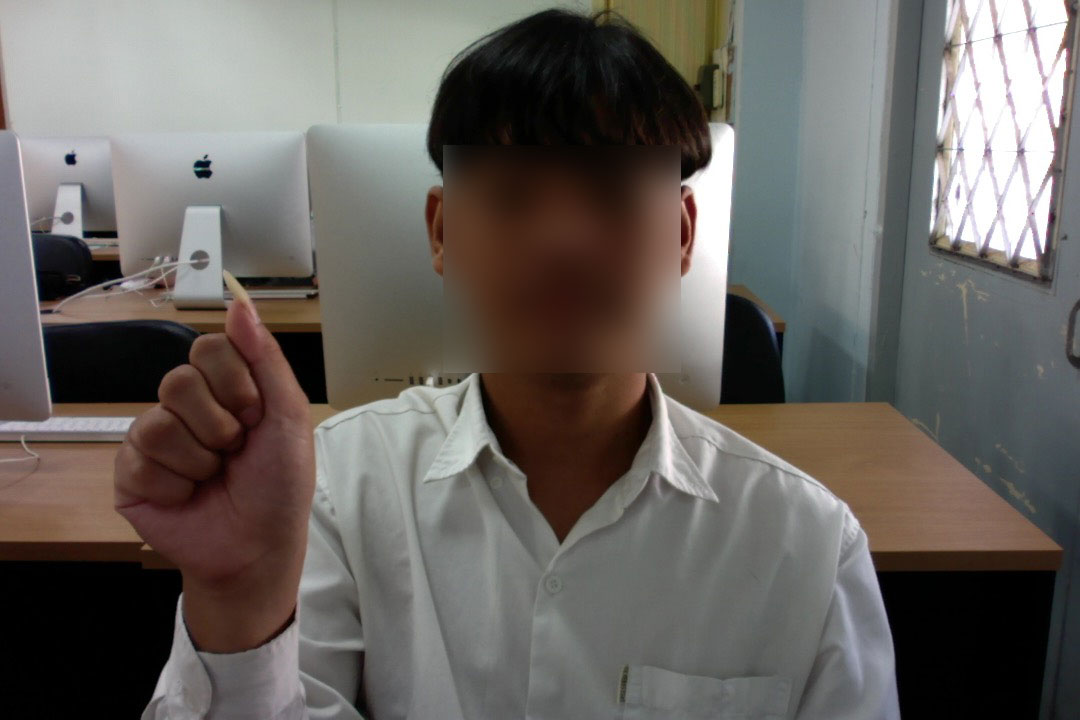or: (96, 255, 329, 615)
